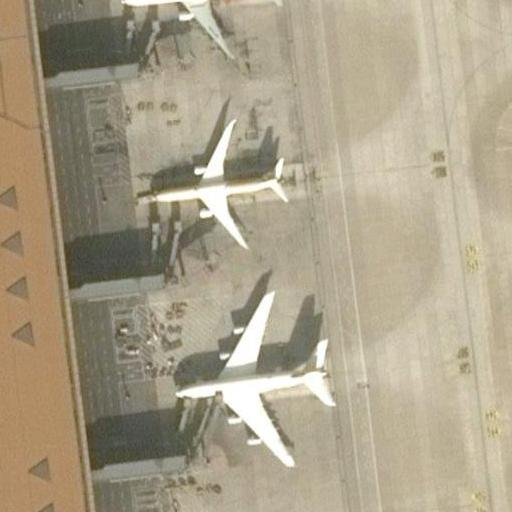Aircraft: (167, 286, 339, 473), (131, 113, 299, 260), (112, 0, 290, 61)
